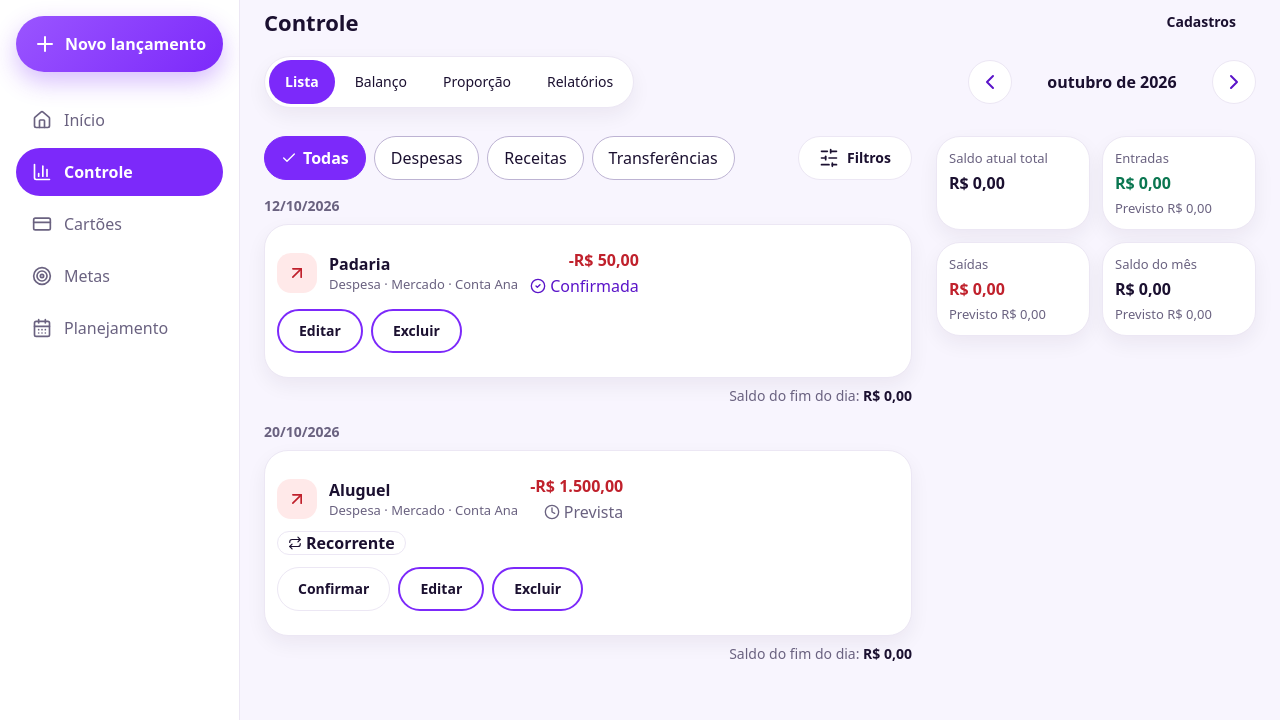
alcance perguntado só para recorrente (CA-0.10, CA-3.07) › excluir ocorrência de recorrente pergunta o alcance com as 3 opções
The width and height of the screenshot is (1280, 720).
Expected: the text "Aluguel" is shown, [329,479,390,501]
Click the button "Excluir" below "20/10/2026".
click(538, 589)  # box [492,567,583,611]
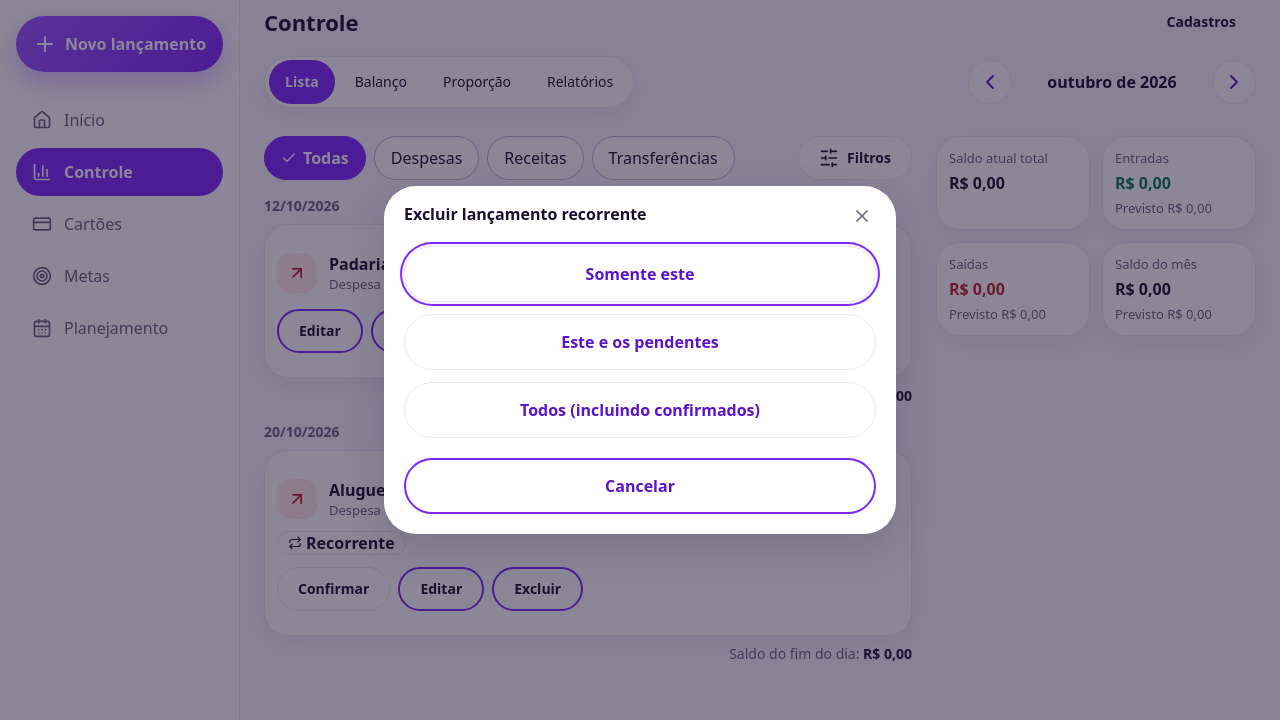
Now the button "Somente este" is shown, box [404,246,876,302]
Now the button "Este e os pendentes" is shown, box [404,314,876,370]
Now the button "Todos (incluindo confirmados)" is shown, box [404,382,876,438]
